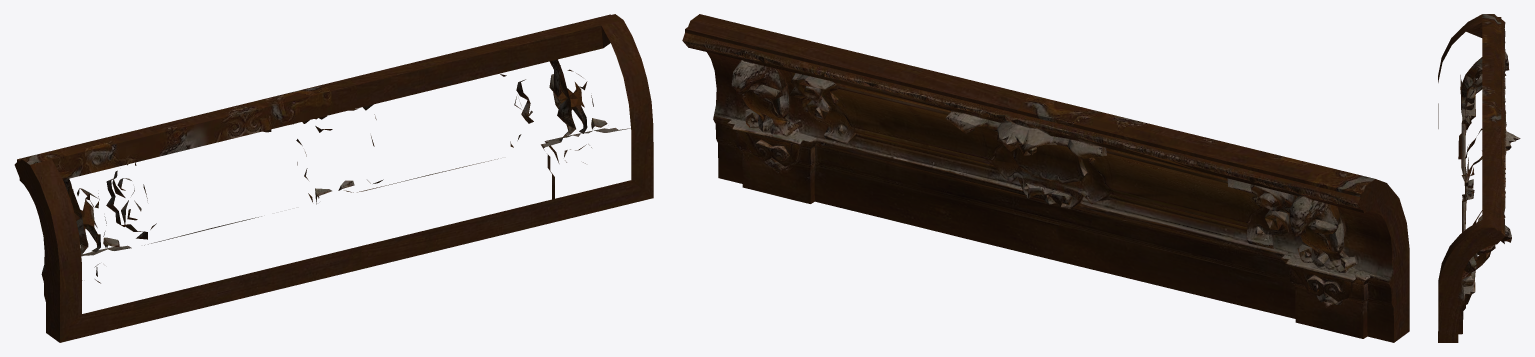
The model's file is ceiling-cornice.glb.
The picture shows the model from 3 angles, left to right: view 1: azimuth 30°, elevation 25°; view 2: azimuth 150°, elevation 25°; view 3: azimuth 270°, elevation 25°; orthographic projection. The views are drawn at different scales.
Visible parts, largest first — view 1: ceiling-cornice; view 2: ceiling-cornice; view 3: ceiling-cornice.
Boxes of the visible parts, x1=… form: ceiling-cornice: x1=14, y1=14, x2=653, y2=342; ceiling-cornice: x1=682, y1=14, x2=1409, y2=342; ceiling-cornice: x1=1438, y1=14, x2=1520, y2=342.
Size of the model in its own units: 4 by 1.01 by 0.6556.
1 material, 1 textured.
